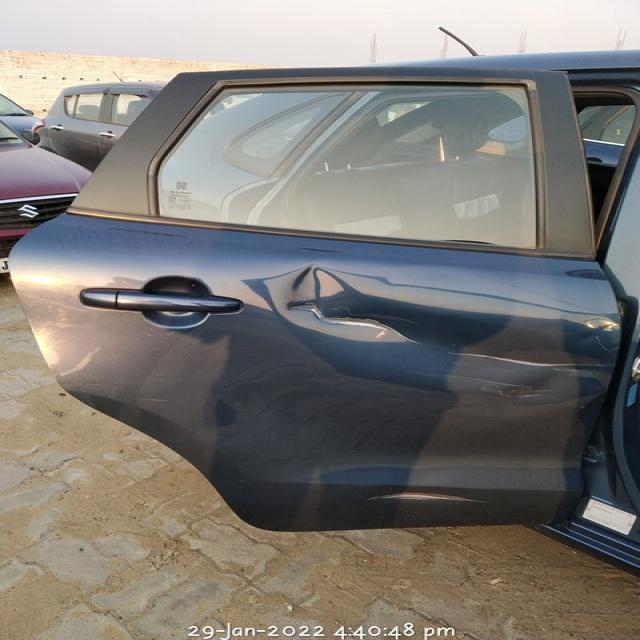damage: (254, 261, 620, 410), (371, 479, 488, 521)
